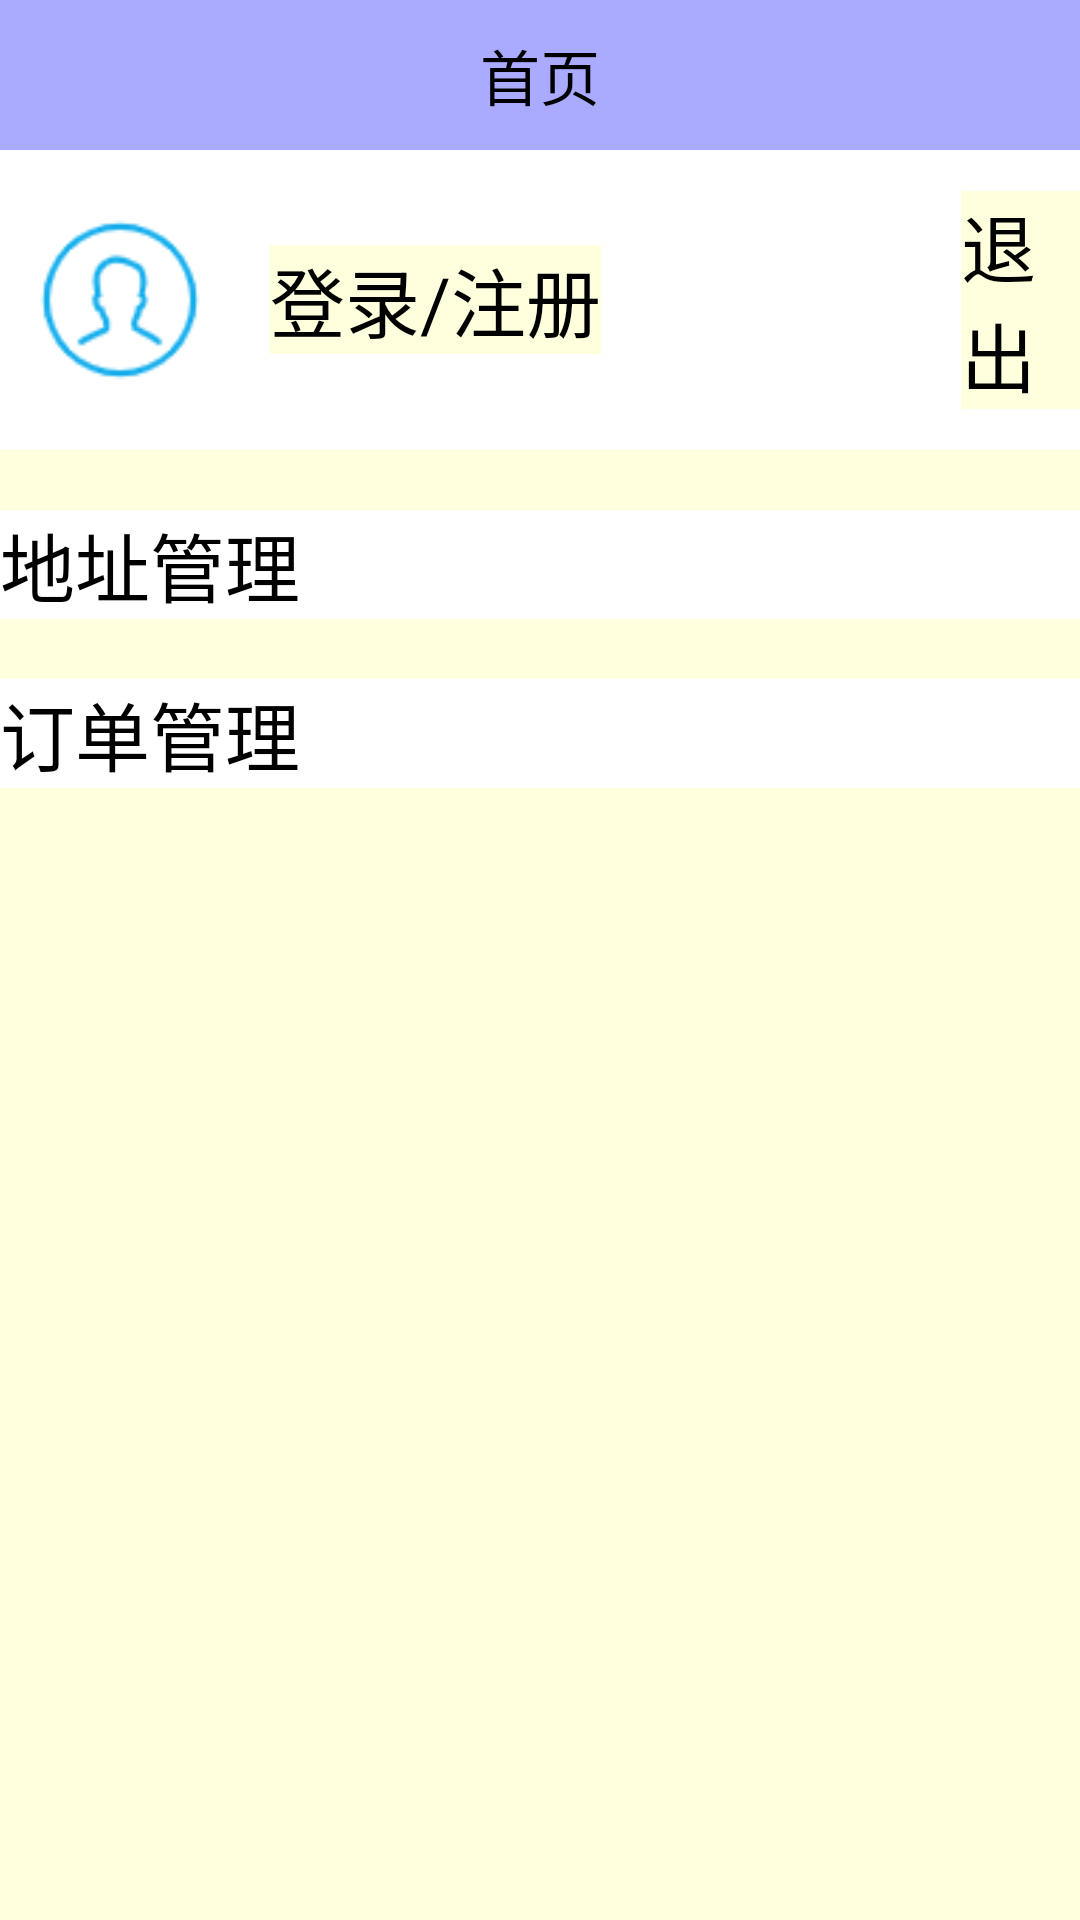

Icon click points for this 1080w x 1920h phone screenshot, format point (x, y):
head: point (120, 300)
